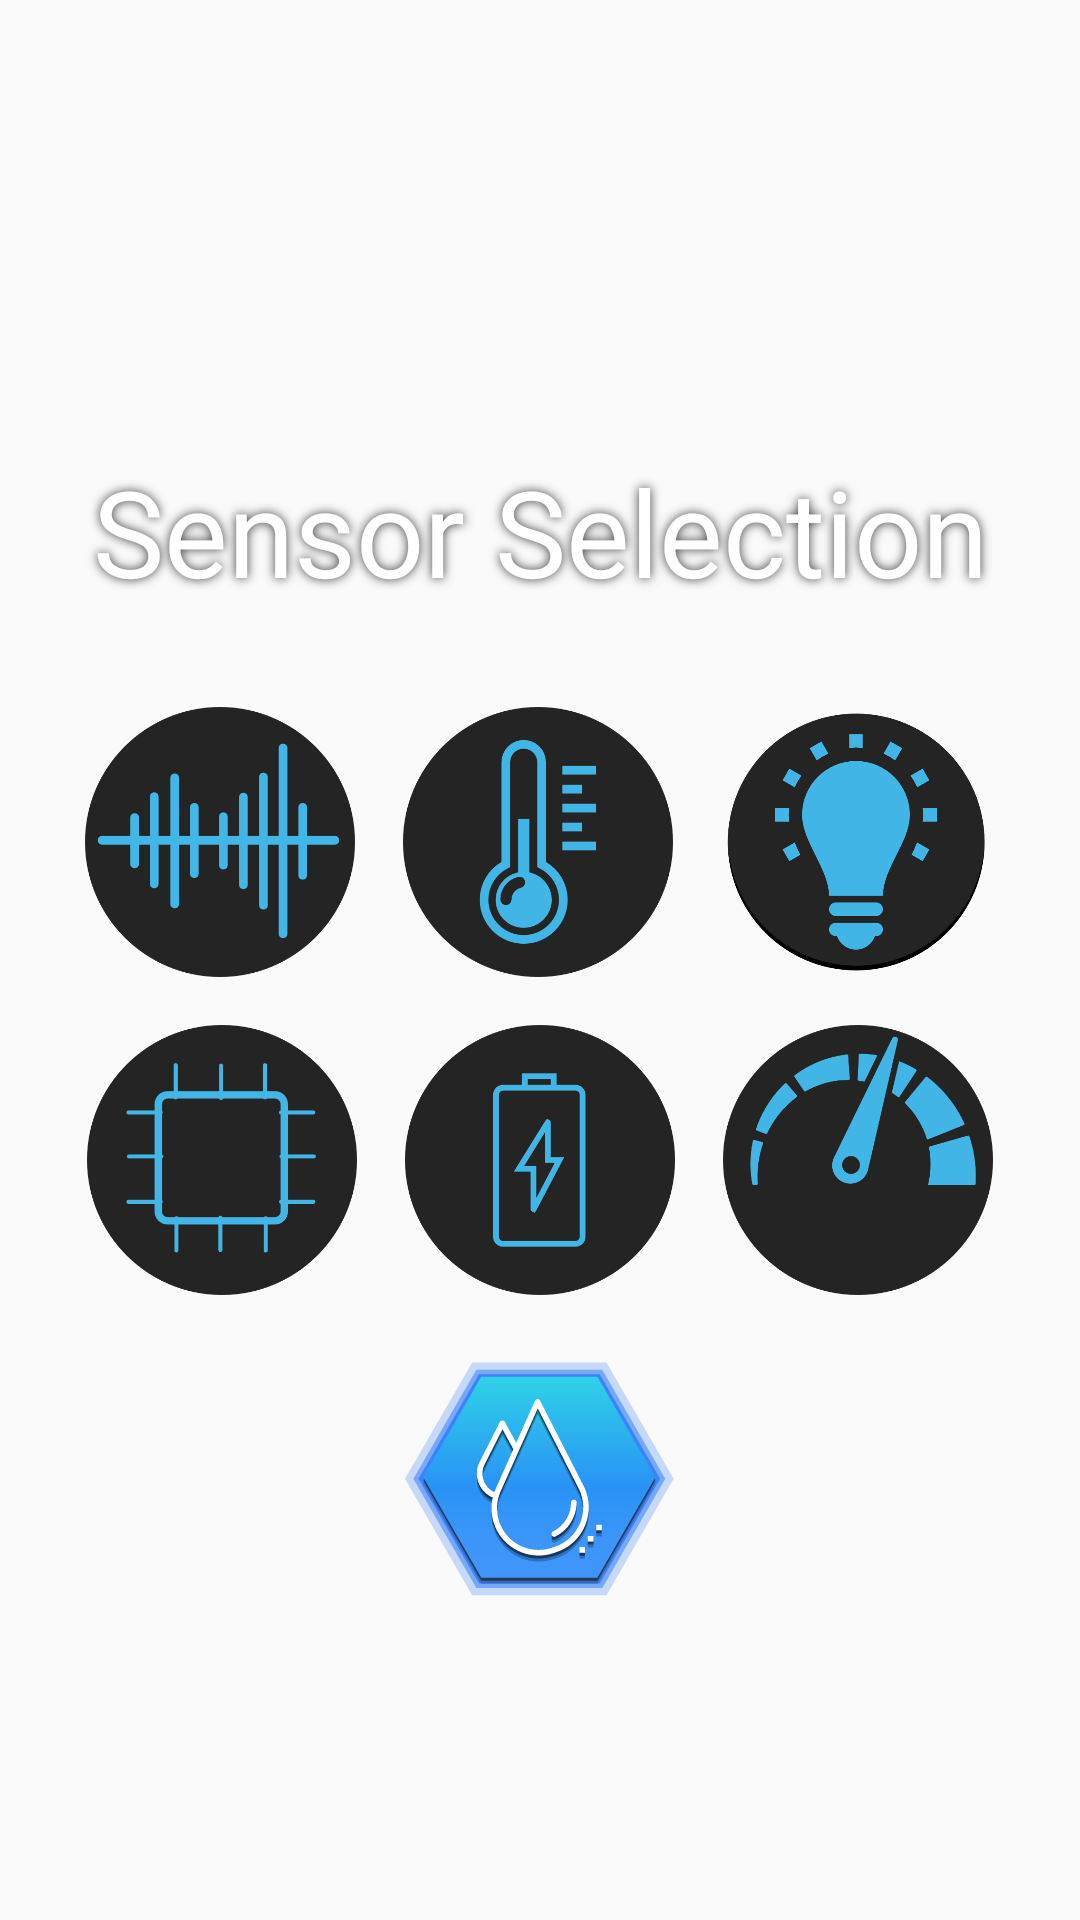

Icons on this 1080px×1920px Android screen, each with its box as [x1, y1, x2, y2]:
Battery Button: [405, 1025, 675, 1295]
Humidity Button: [405, 1362, 673, 1595]
Light Button: [727, 713, 985, 971]
Ram Button: [87, 1025, 357, 1295]
Sound Button: [85, 707, 355, 977]
Speed Button: [723, 1025, 993, 1295]
